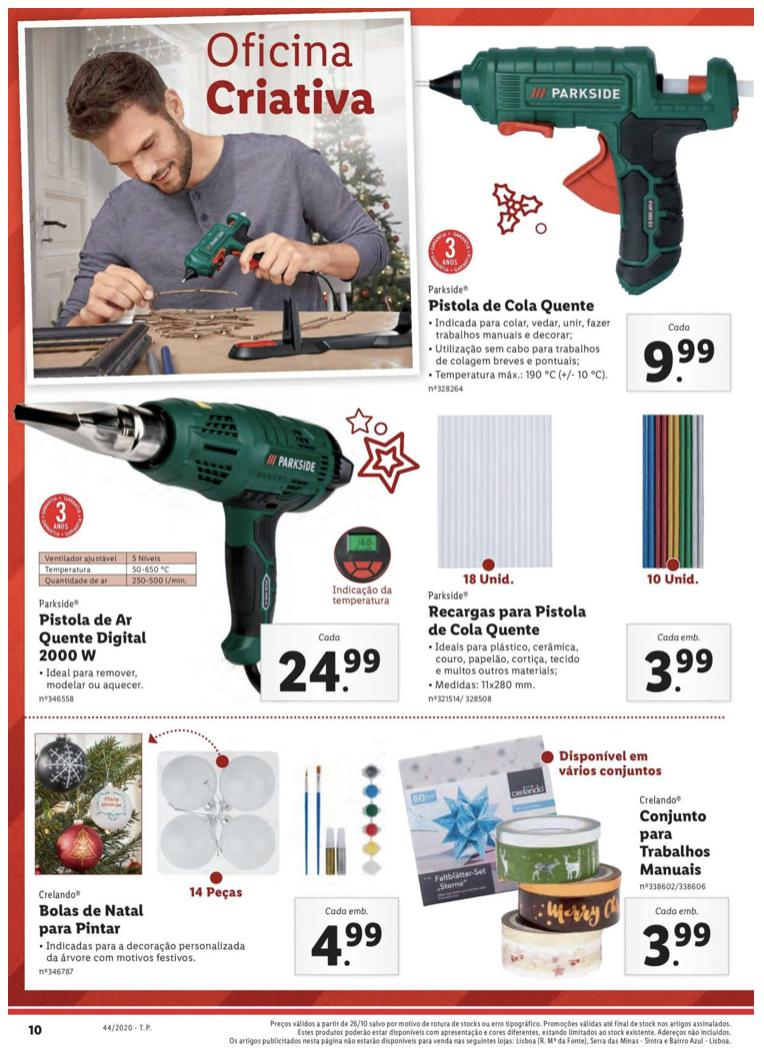name: (32, 606, 149, 666), (424, 599, 590, 639), (633, 806, 721, 879), (33, 901, 149, 939), (426, 293, 601, 317)
price: (625, 313, 734, 392), (628, 625, 733, 700), (266, 645, 395, 701), (304, 917, 396, 976), (640, 918, 719, 968)
product: (25, 388, 419, 714), (411, 33, 745, 404), (422, 403, 745, 709), (20, 733, 403, 987), (403, 728, 741, 987)
